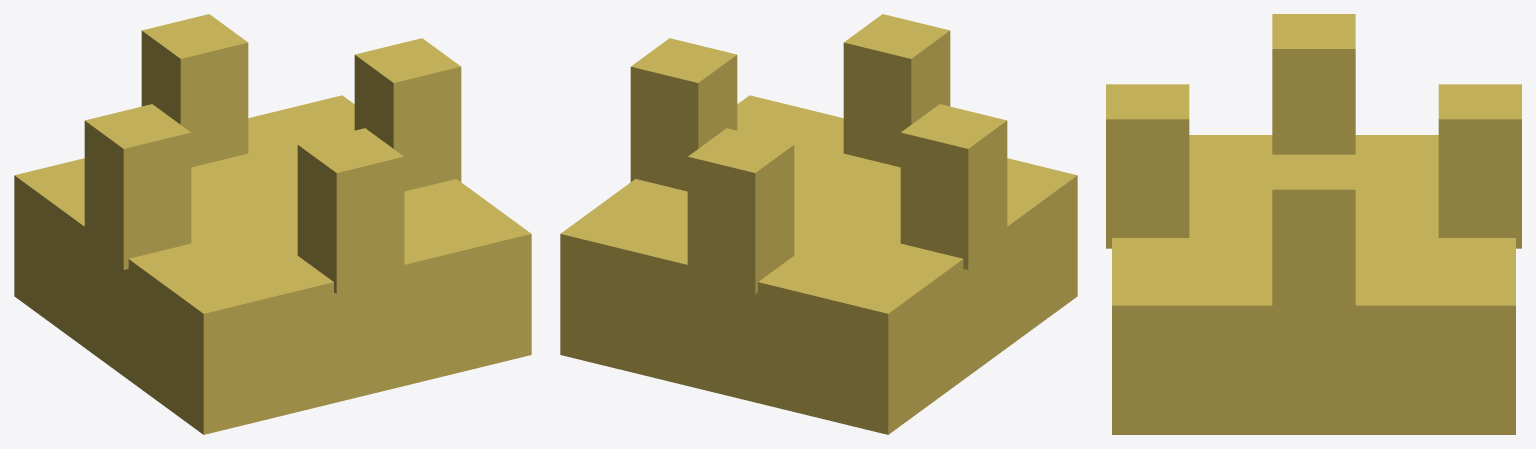
The model's file is CROWN.gltf.
3 views of the same model, side by side, from view 1: azimuth 30°, elevation 25°; view 2: azimuth 150°, elevation 25°; view 3: azimuth 270°, elevation 25° (orthographic). The views are drawn at different scales.
Visible parts, largest first — view 1: CROWN; view 2: CROWN; view 3: CROWN.
Part boxes in pixels (x1=…): CROWN: x1=14, y1=14, x2=531, y2=434; CROWN: x1=560, y1=14, x2=1077, y2=434; CROWN: x1=1106, y1=14, x2=1521, y2=434.
Bounding box in the file's own units: 0.35 × 0.23 × 0.35.
